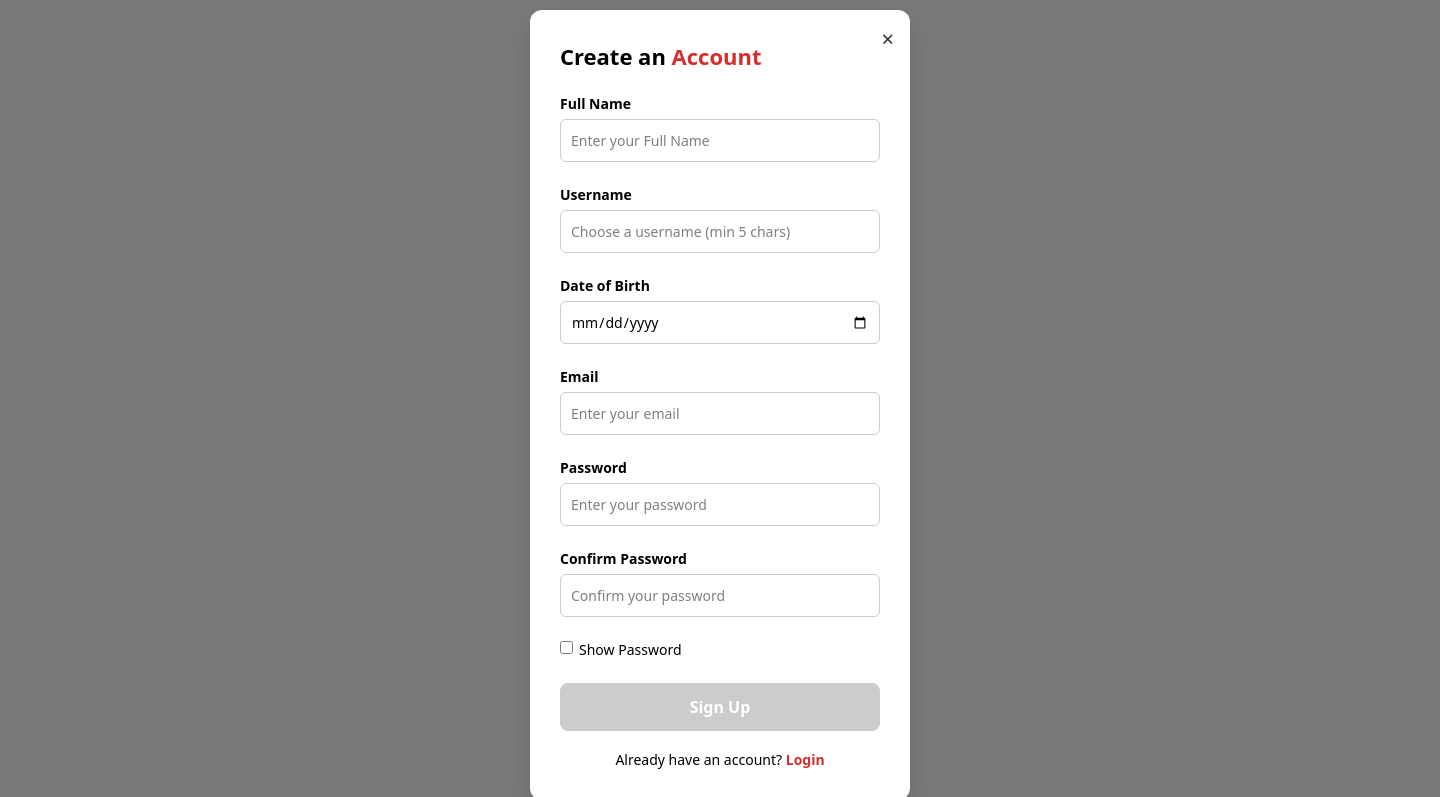
Test case: SignUp Component › validates Password Complexity (Weak Password)
In the password field with placeholder "Enter your password": (720, 504) [560,483,880,526], type "weak"
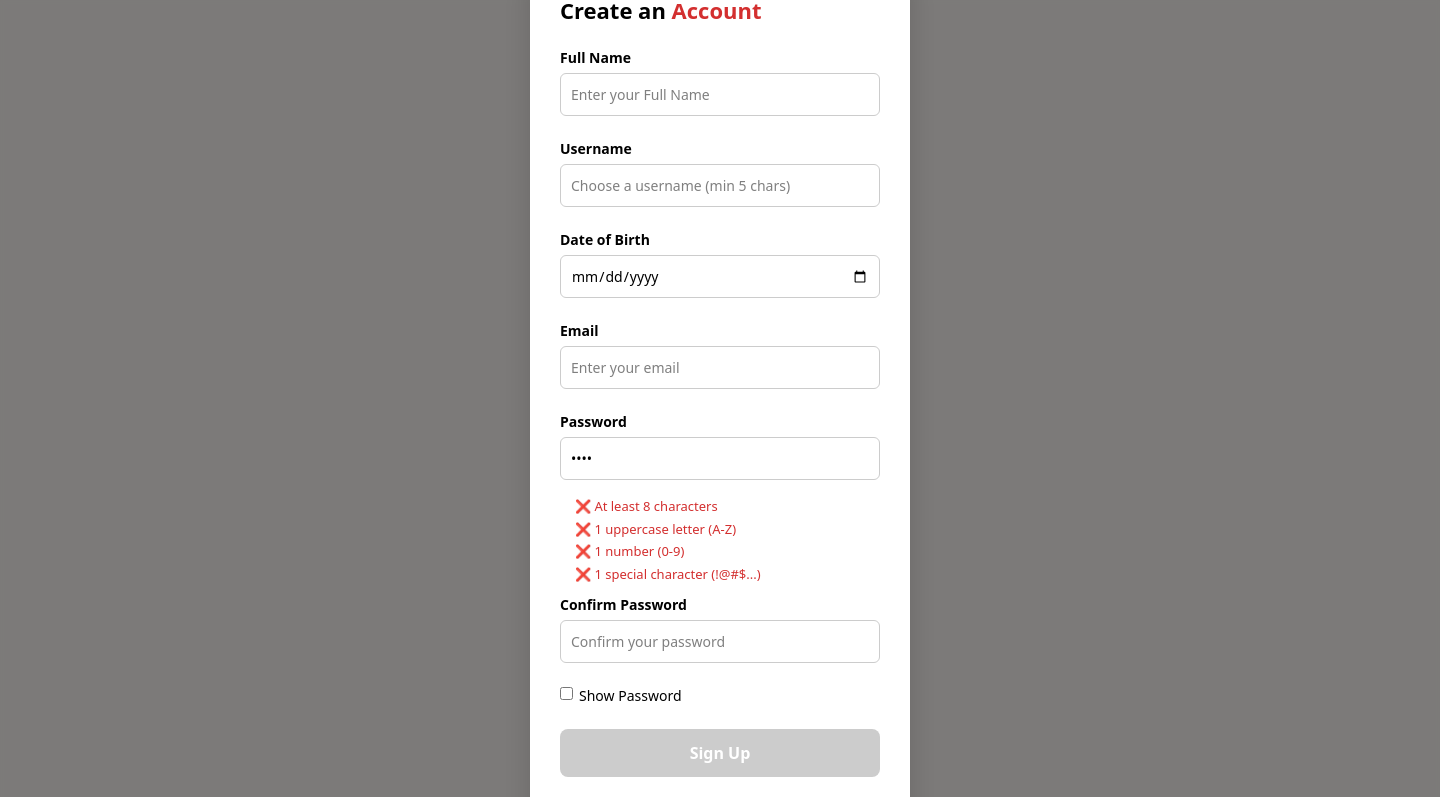
Expected: the list item "❌ At least 8 characters" is shown, [575,497,718,515]
Expected: the list item "❌ 1 uppercase letter (A-Z)" is shown, [575,520,736,538]
Expected: the list item "❌ 1 number (0-9)" is shown, [575,542,684,560]
